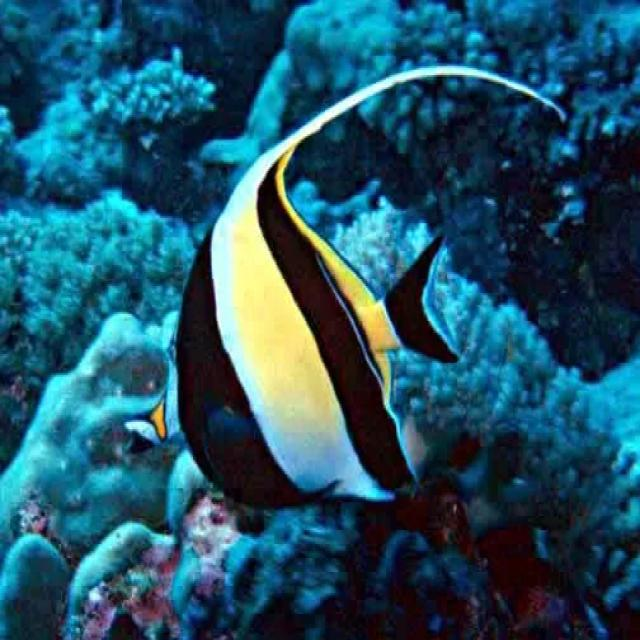MorishIdol: (123, 61, 568, 514)
